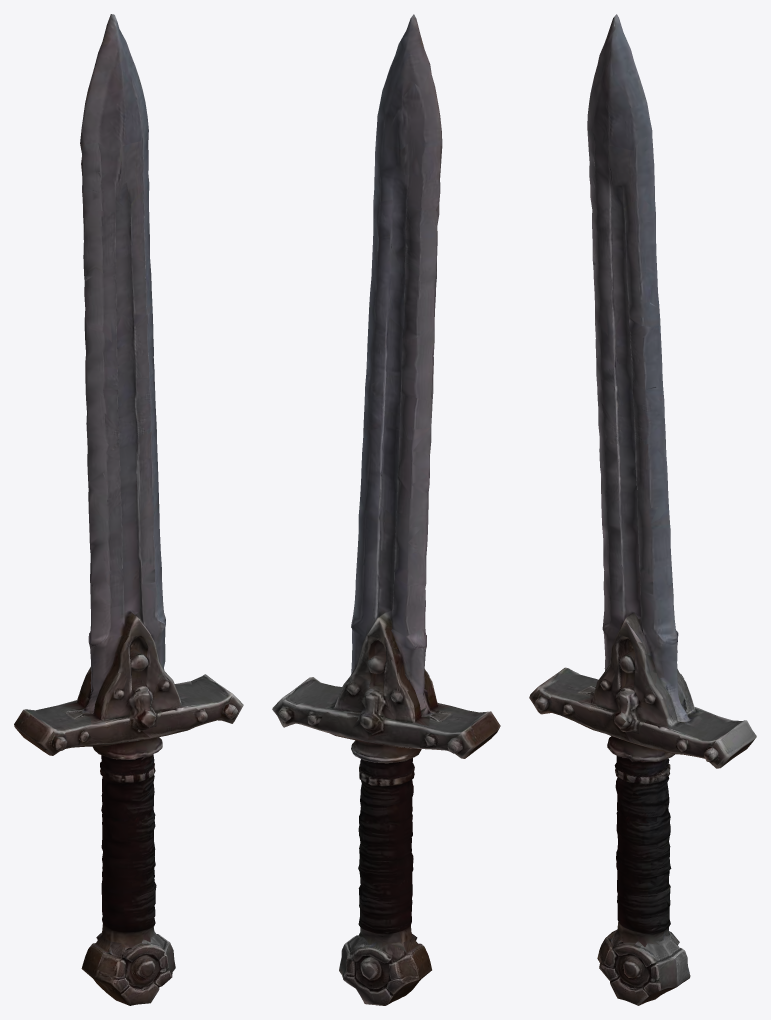
Rendered from espada-muralha-m66.glb.
3 renders of one model, left to right at view 1: azimuth 30°, elevation 25°; view 2: azimuth 150°, elevation 25°; view 3: azimuth 330°, elevation 25°, orthographic.
Bounding box in the file's own units: 0.2259 × 1.05 × 0.0852.
1 material, 1 textured.
